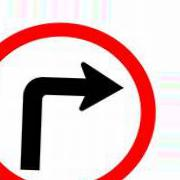right: (4, 23, 157, 180)
